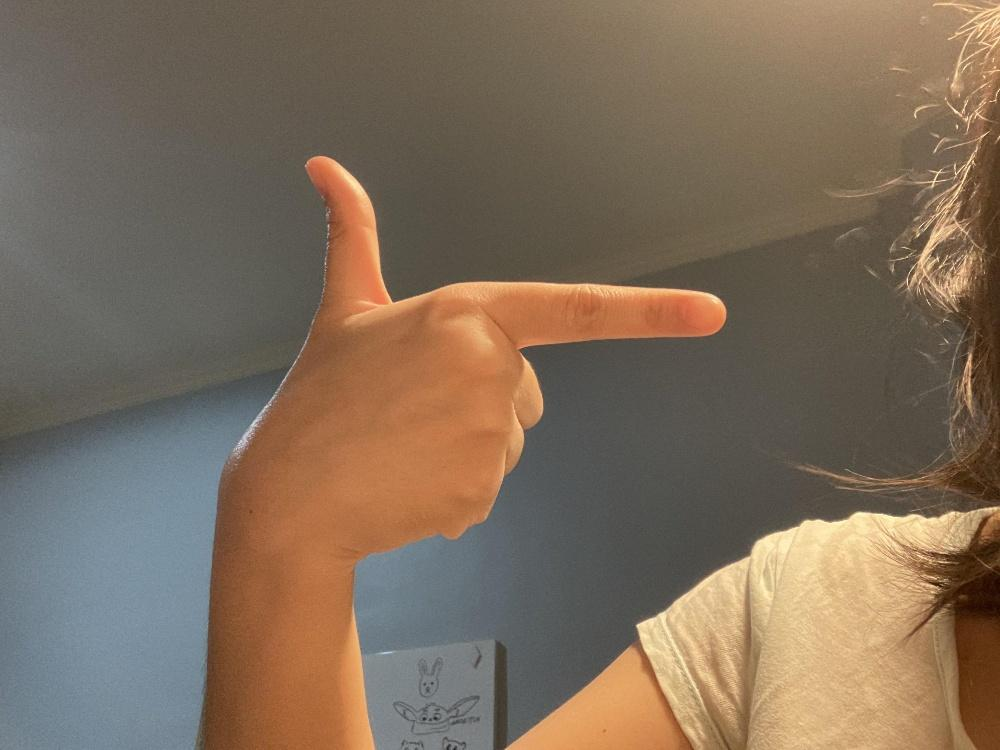g: (225, 153, 726, 565)
